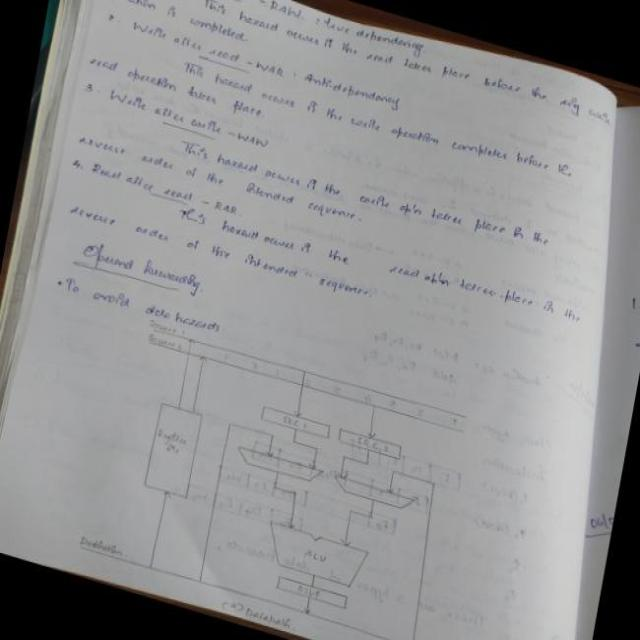Figure Detection - v3 Dataset Version2: (54, 297, 526, 640)
